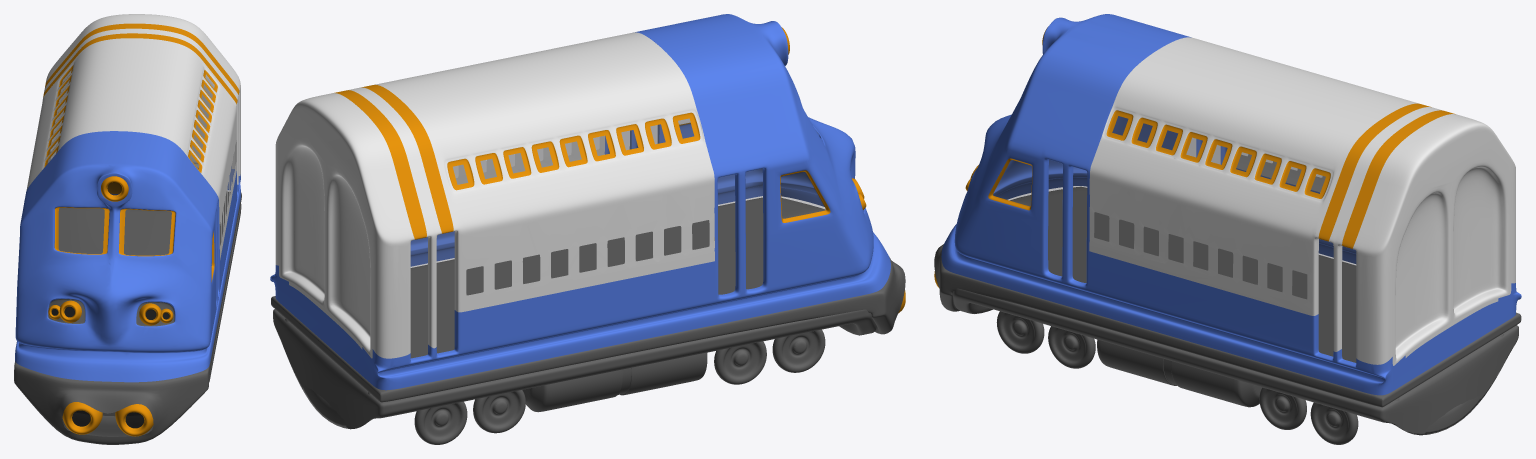
Rendered from train-3d-animated-icon-345779085644.glb.
The picture shows the model from 3 angles, left to right: view 1: azimuth 30°, elevation 25°; view 2: azimuth 150°, elevation 25°; view 3: azimuth 270°, elevation 25°; orthographic projection. The views are drawn at different scales.
Visible parts, largest first — view 1: body.006, body.005, body.004, body.007, body, lamp, body.008, body.001; view 2: body.005, body.006, body.004, glass, body.001, body.007, tire, body.003, body; view 3: body.005, body.006, body.004, body.001, glass, body.007, tire, body.002, body.
Part boxes in pixels (x1,y1,x2,y2): body.006: [15, 131, 240, 382]; body.005: [26, 14, 240, 259]; body.004: [14, 191, 241, 444]; body.007: [43, 23, 239, 281]; body: [48, 71, 214, 255]; lamp: [48, 176, 173, 436]; body.008: [48, 299, 174, 326]; body.001: [75, 204, 241, 416]; body.005: [275, 32, 714, 358]; body.006: [270, 14, 890, 390]; body.004: [271, 197, 905, 402]; glass: [411, 125, 762, 357]; body.001: [273, 309, 876, 429]; body.007: [334, 84, 830, 239]; tire: [414, 329, 825, 444]; body.003: [522, 352, 707, 412]; body: [453, 118, 825, 218]; body.005: [1089, 37, 1515, 365]; body.006: [941, 14, 1521, 395]; body.004: [934, 186, 1521, 407]; body.001: [953, 288, 1518, 435]; glass: [1048, 138, 1355, 362]; body.007: [988, 103, 1455, 248]; tire: [996, 311, 1358, 444]; body.002: [1097, 339, 1262, 407]; body: [993, 116, 1325, 205].
Bounding box in the file's own units: 2.83 × 1.87 × 3.28.
